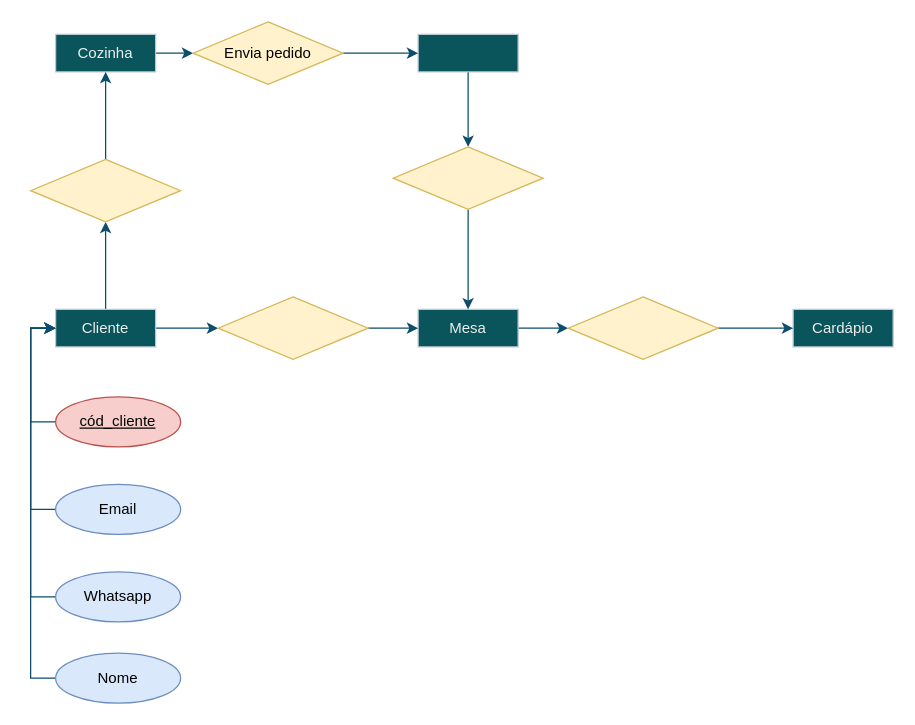
This 915x725 diagram has some shape labels left out. Each missing label, with the box of its shape:
Atende: (392, 146, 543, 209)
Atendente: (417, 33, 518, 72)
Contém: (567, 296, 718, 359)
Faz pedido: (29, 158, 181, 222)
Reserva/Senta: (217, 296, 368, 359)
